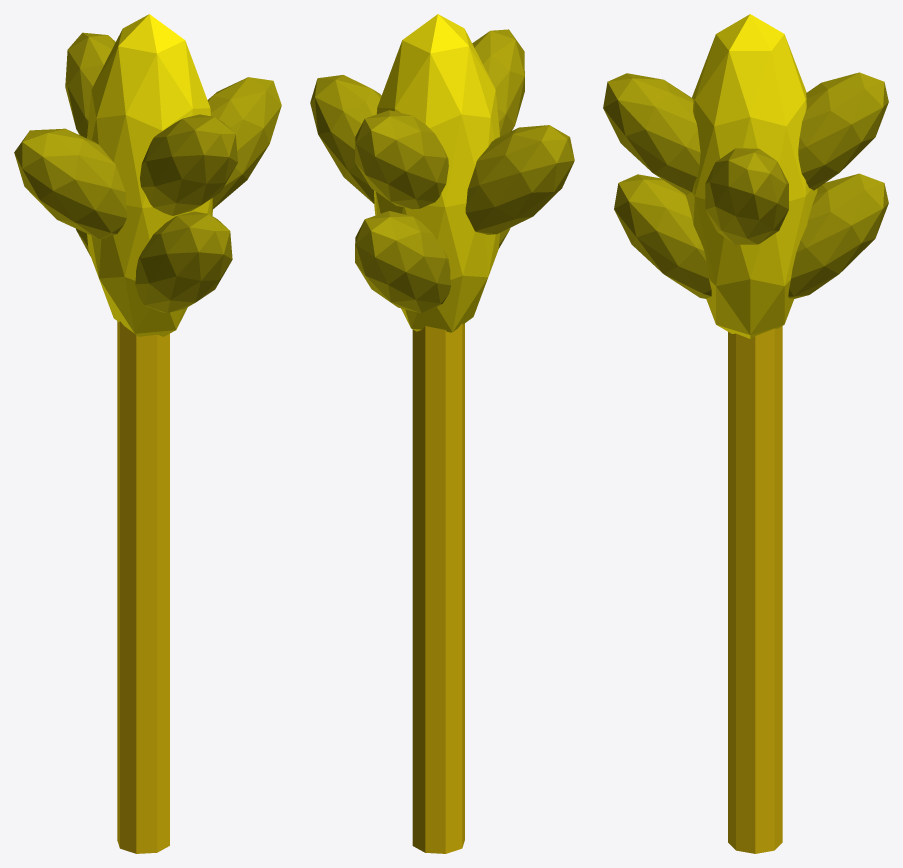
The model's file is ble.fbx.
The picture shows the model from 3 angles, left to right: view 1: azimuth 30°, elevation 25°; view 2: azimuth 150°, elevation 25°; view 3: azimuth 270°, elevation 25°; orthographic projection.
Visible parts, largest first — view 1: Cylinder, Icosphere, Icosphere.005, Icosphere.004, Icosphere.003, Icosphere.006, Icosphere.002; view 2: Cylinder, Icosphere, Icosphere.005, Icosphere.001, Icosphere.002, Icosphere.006, Icosphere.004; view 3: Cylinder, Icosphere, Icosphere.004, Icosphere.001, Icosphere.002, Icosphere.003, Icosphere.006.
Boxes of the visible parts, x1,y1,x2,y2 form: Cylinder: (117, 321, 169, 853); Icosphere: (87, 14, 212, 336); Icosphere.005: (14, 128, 126, 238); Icosphere.004: (140, 114, 237, 215); Icosphere.003: (135, 211, 232, 312); Icosphere.006: (207, 77, 281, 209); Icosphere.002: (65, 32, 115, 138); Cylinder: (412, 323, 464, 853); Icosphere: (374, 14, 499, 333); Icosphere.005: (465, 125, 574, 234); Icosphere.001: (355, 211, 450, 313); Icosphere.002: (355, 110, 448, 209); Icosphere.006: (310, 75, 381, 203); Icosphere.004: (472, 29, 524, 136); Cylinder: (728, 326, 782, 853); Icosphere: (685, 14, 817, 338); Icosphere.004: (603, 73, 700, 194); Icosphere.001: (788, 173, 888, 298); Icosphere.002: (798, 72, 888, 190); Icosphere.003: (614, 174, 711, 298); Icosphere.006: (705, 148, 788, 244).
Size of the model in its own units: 175 by 537 by 168.
